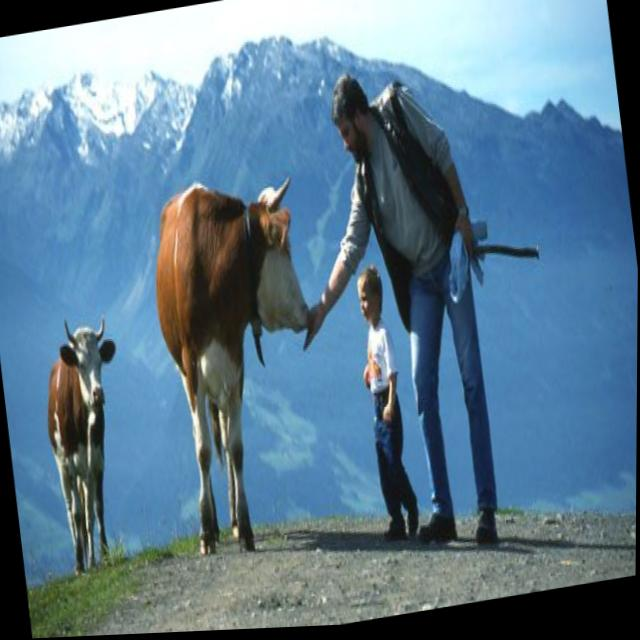cowFace: (54, 306, 127, 434)
